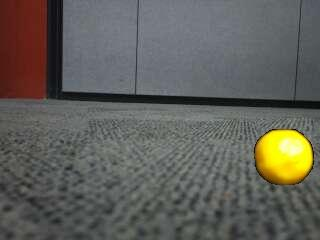Lemon: (254, 129, 314, 186)
